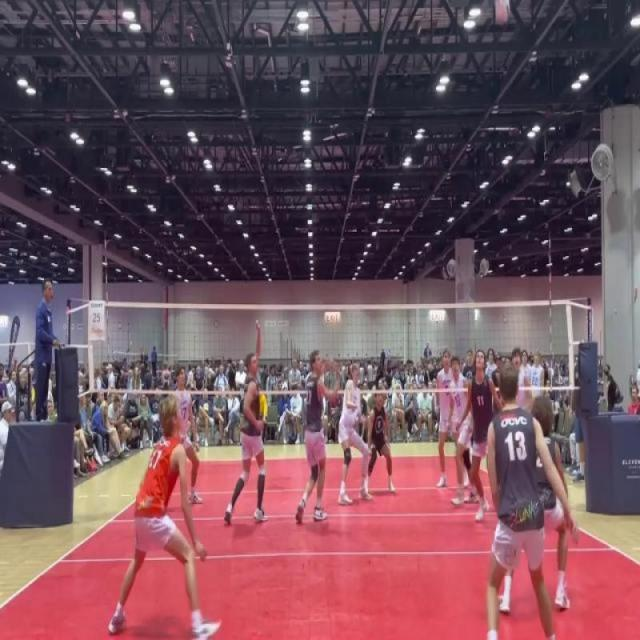volleyball: (493, 1, 511, 27)
